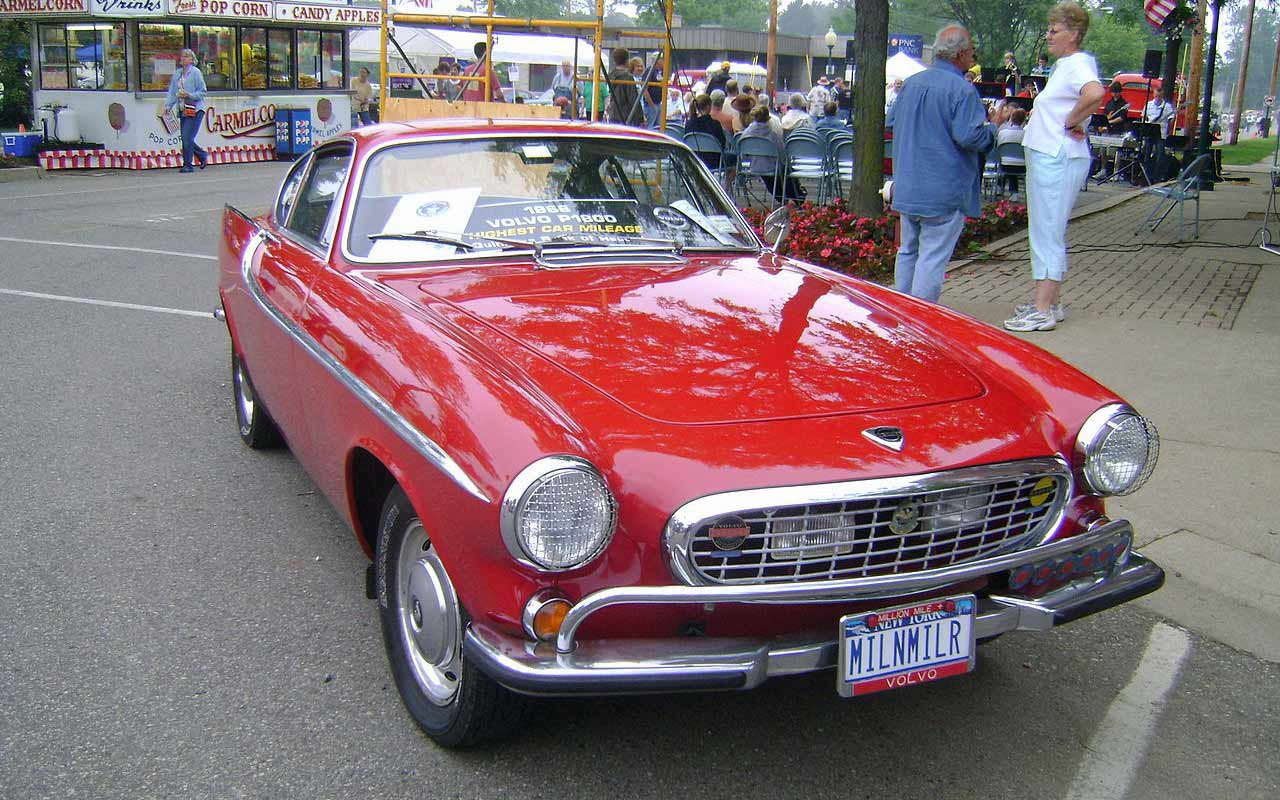car: (212, 115, 1166, 759)
